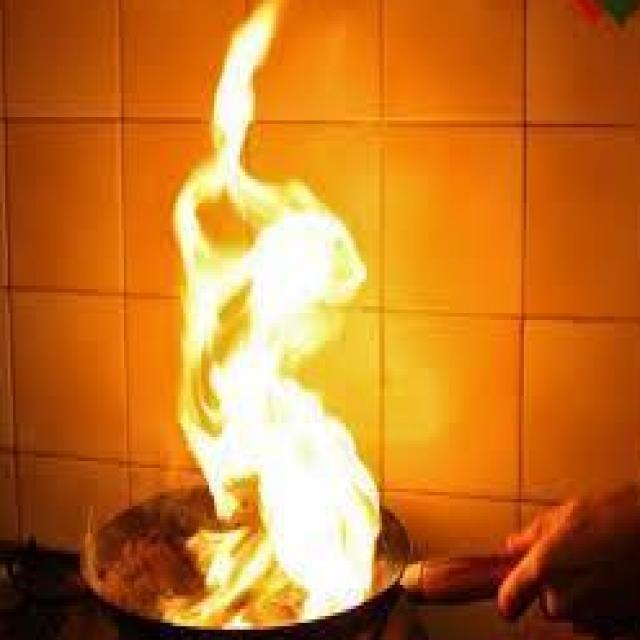smoke: (155, 0, 382, 623)
